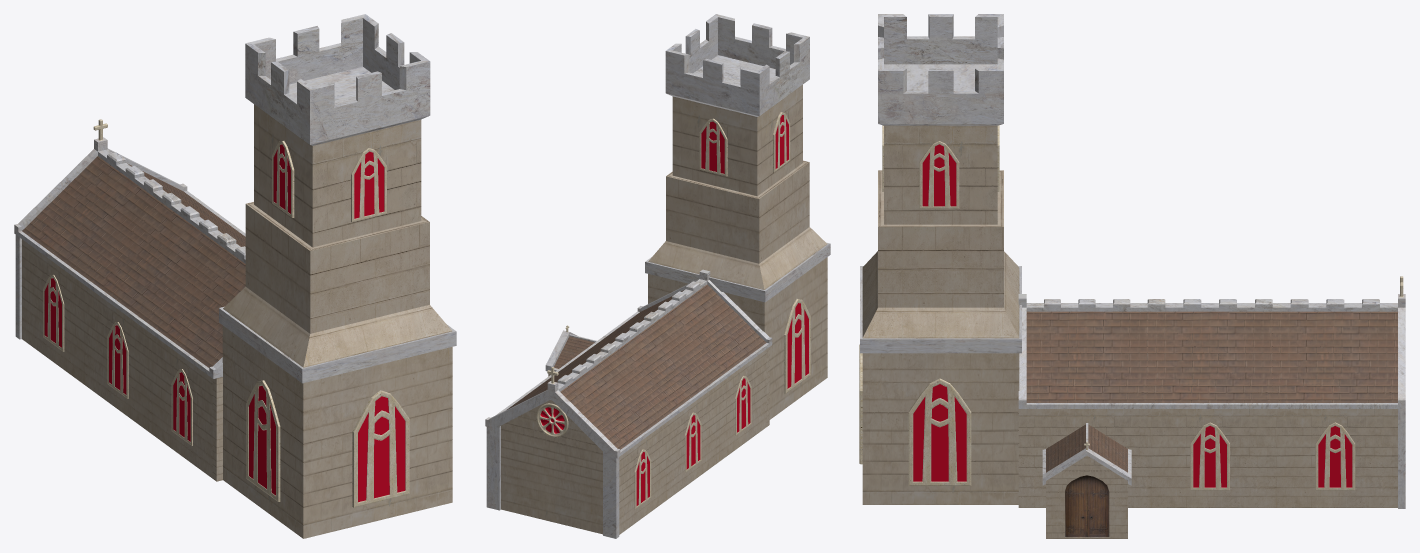
File: Church.fbx
3 views of the same model, side by side, from view 1: azimuth 30°, elevation 25°; view 2: azimuth 150°, elevation 25°; view 3: azimuth 270°, elevation 25° (orthographic). The views are drawn at different scales.
Visible parts, largest first — view 1: Cube; view 2: Cube; view 3: Cube.
Part boxes in pixels (x1=…): Cube: x1=14, y1=14, x2=456, y2=538; Cube: x1=485, y1=14, x2=830, y2=538; Cube: x1=859, y1=14, x2=1405, y2=538.
Bounding box in the file's own units: 1127 × 2031 × 2356.
6 materials, 5 textured.
